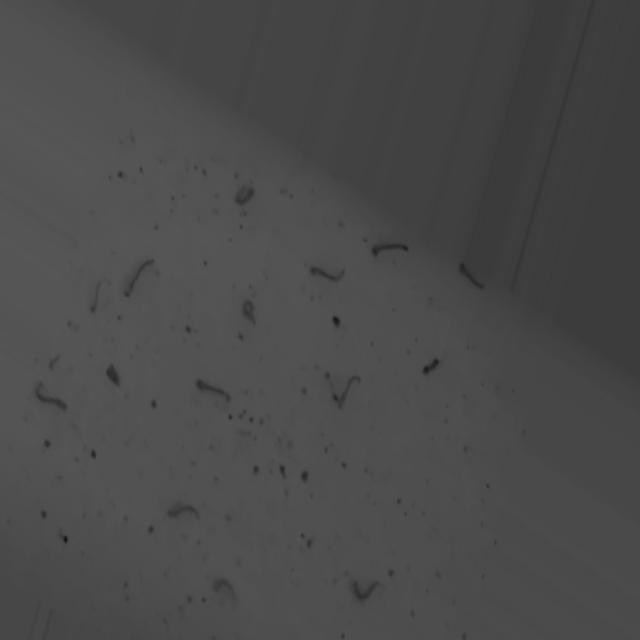larvas: (122, 260, 155, 298), (39, 378, 69, 411), (197, 378, 234, 403), (309, 264, 349, 284), (372, 240, 408, 262), (336, 373, 359, 405), (458, 260, 482, 289), (87, 278, 106, 314), (352, 576, 376, 600), (233, 186, 256, 208), (237, 297, 257, 322), (162, 507, 200, 518), (214, 576, 236, 594), (421, 356, 442, 373)
